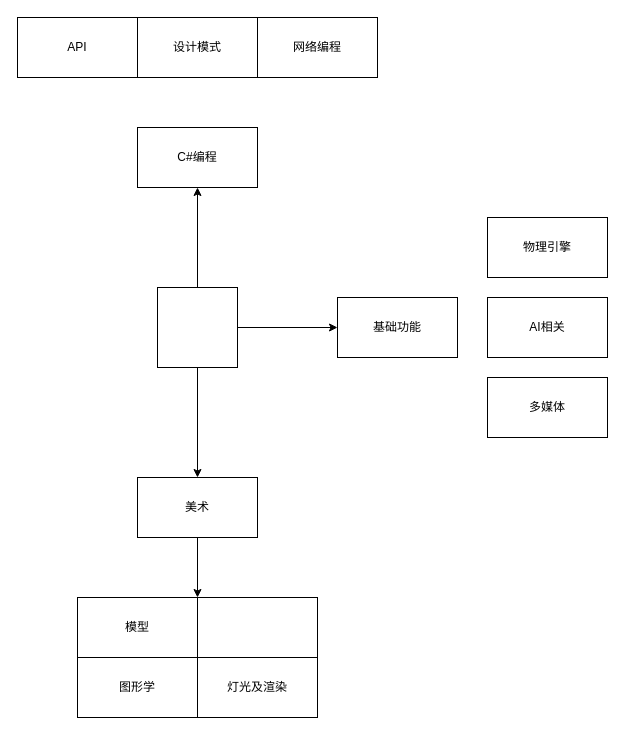
This 625x735 diagram has some shape labels left out. Here are the shapes that lost their labels. From the top down, the centre of each, then its label:
the point at 197,327: unity
the point at 257,627: 动画
